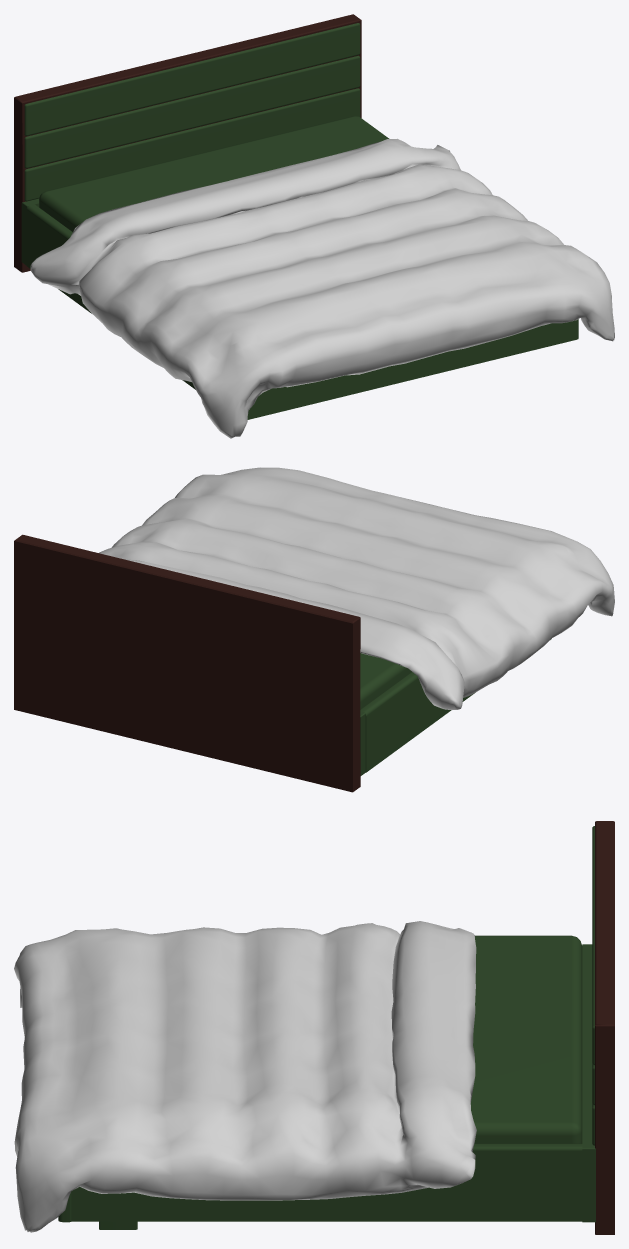
File: Bed.fbx
3 views of the same model, one above another, from view 1: azimuth 30°, elevation 25°; view 2: azimuth 150°, elevation 25°; view 3: azimuth 270°, elevation 25° (orthographic). The views are drawn at different scales.
Parts seen in each view (by area): view 1: DownConforter, Bed; view 2: Bed, DownConforter; view 3: DownConforter, Bed.
Part boxes in pixels (x1,y1,x2,y2): DownConforter: [30, 138, 614, 438]; Bed: [14, 14, 578, 419]; Bed: [14, 534, 551, 792]; DownConforter: [99, 467, 614, 710]; DownConforter: [14, 921, 476, 1232]; Bed: [58, 821, 614, 1234].
Size of the model in its own units: 236 by 91.39 by 235.
